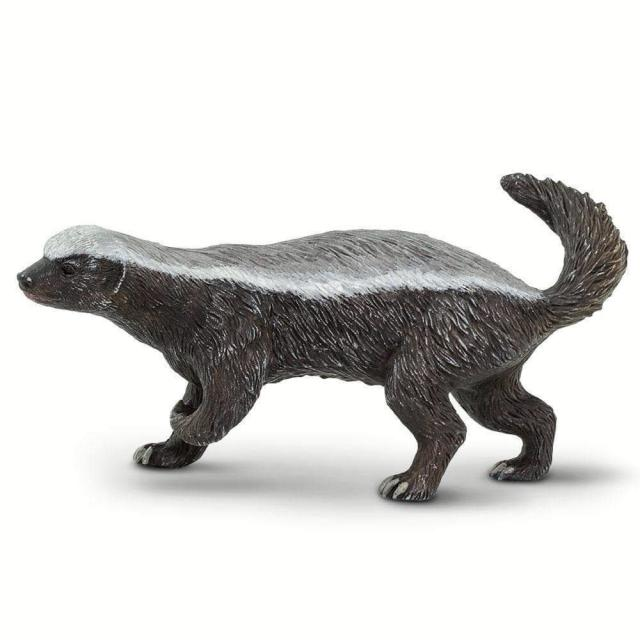badger: (17, 173, 628, 502)
